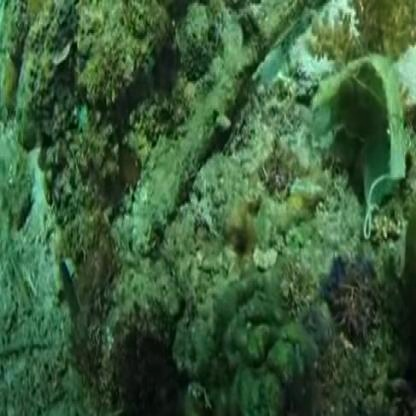misc: (234, 77, 400, 249)
